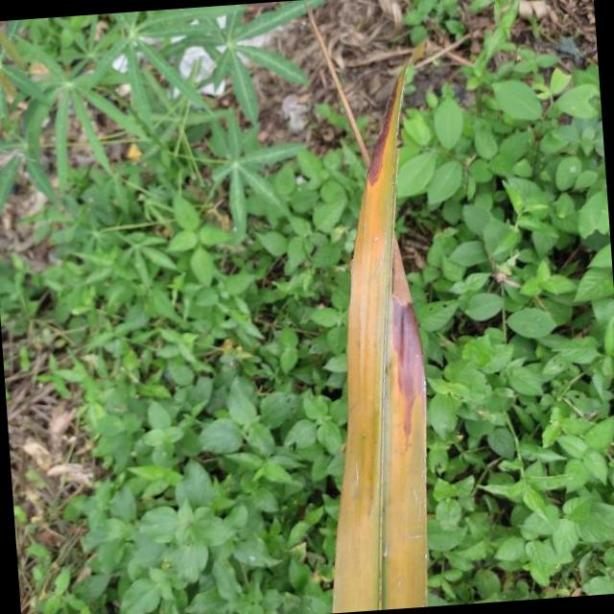Megnesium: (327, 60, 431, 614)
